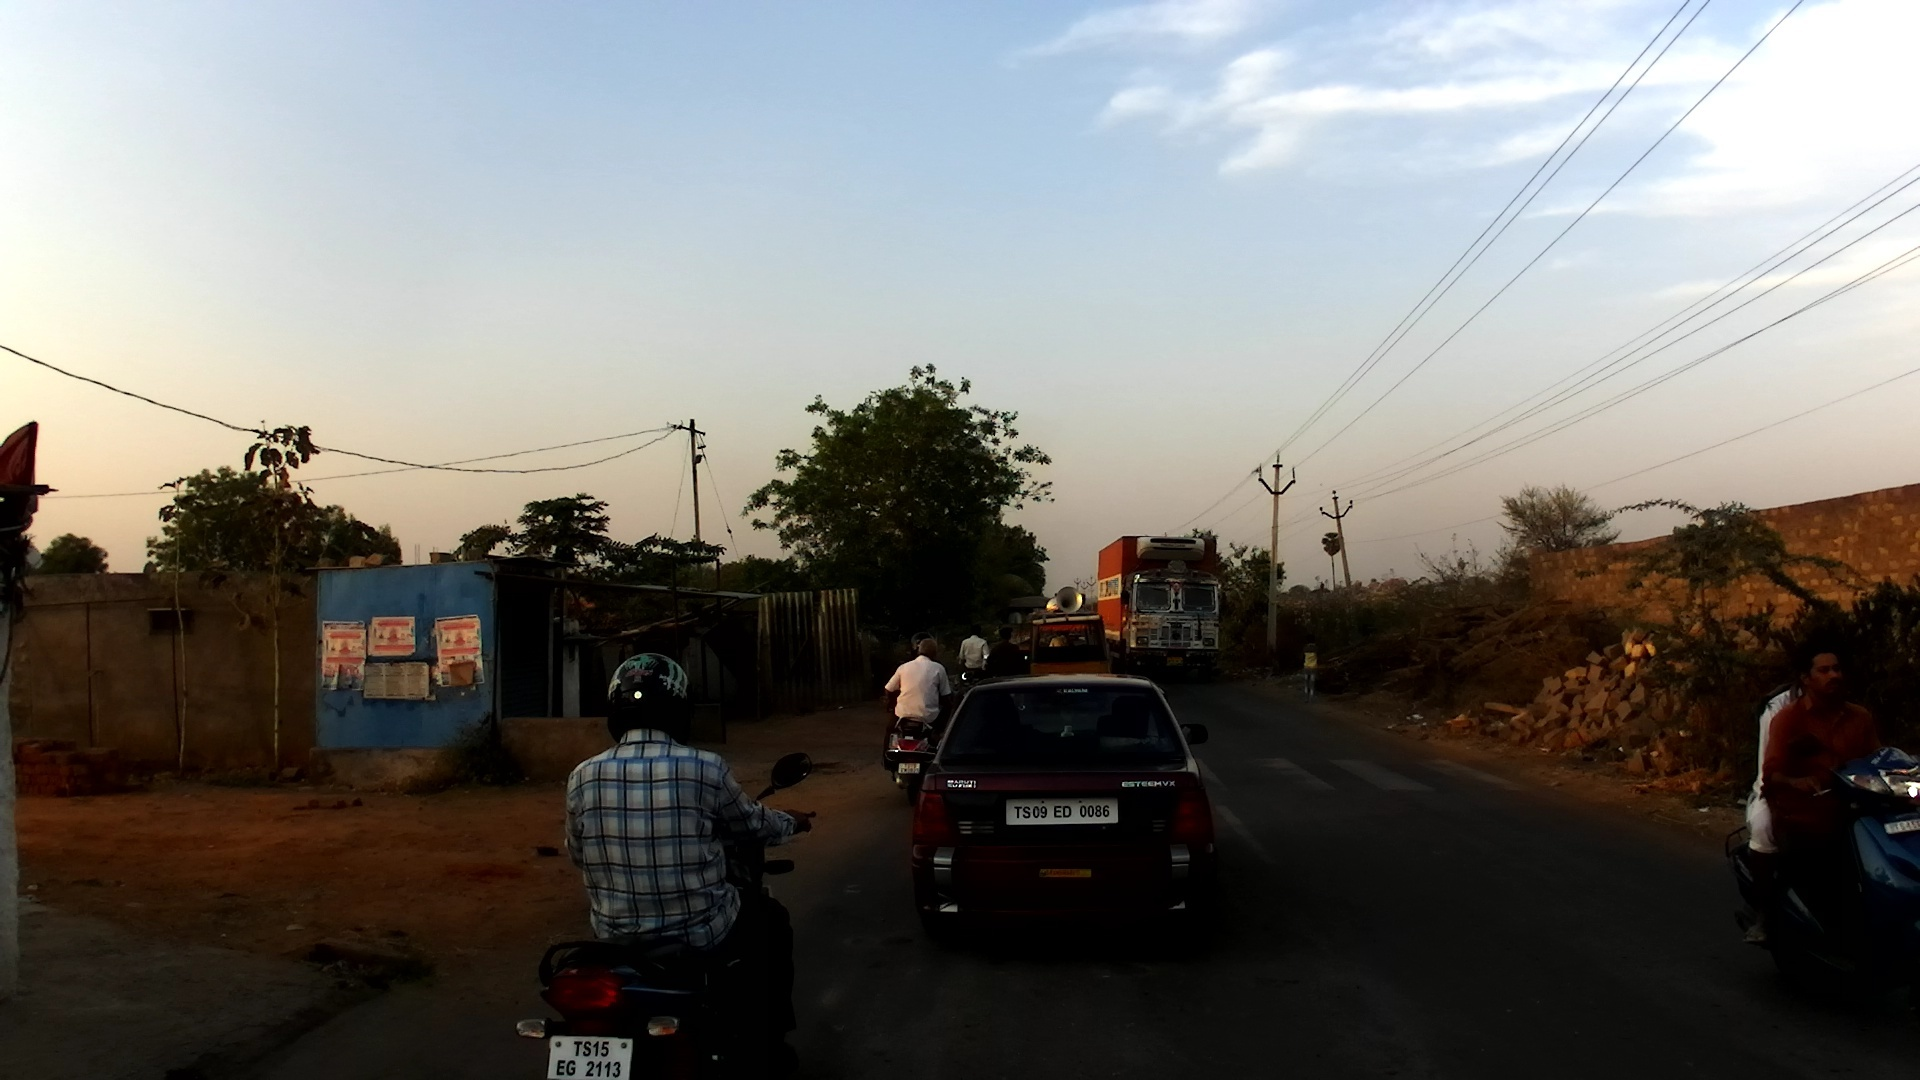car: (907, 670, 1216, 951), (1028, 585, 1113, 684)
motorcycle: (517, 750, 817, 1080), (1725, 741, 1920, 1028), (887, 667, 970, 806), (983, 650, 1030, 684)
person: (952, 620, 987, 681)
rider: (561, 648, 803, 1079), (1761, 645, 1894, 980), (1729, 654, 1826, 953), (880, 637, 951, 769), (909, 632, 954, 719), (984, 623, 1033, 683)
truck: (1091, 533, 1234, 691)
vehicle fallback: (998, 593, 1053, 667)
